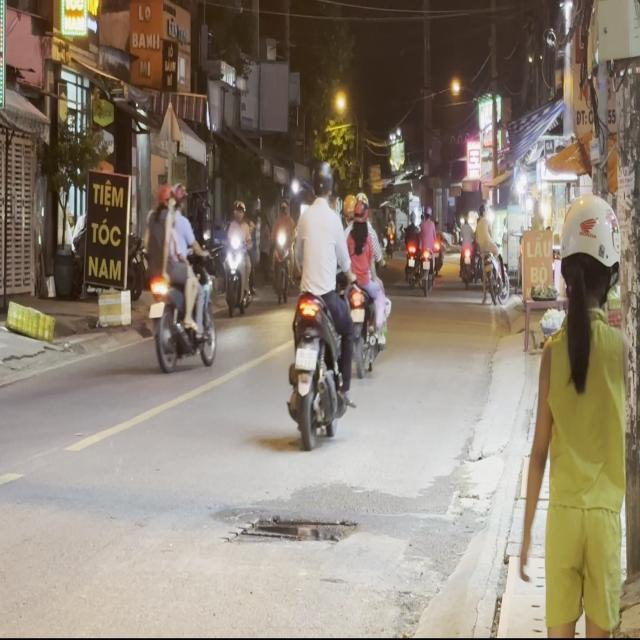helmet: (310, 161, 333, 202), (154, 180, 170, 209), (353, 191, 368, 221), (170, 181, 185, 211), (342, 192, 355, 222)
licenseplate: (283, 158, 353, 444), (142, 177, 215, 375), (344, 189, 390, 373)
nohelmet: (295, 347, 317, 371), (148, 301, 164, 316), (351, 308, 364, 322)
